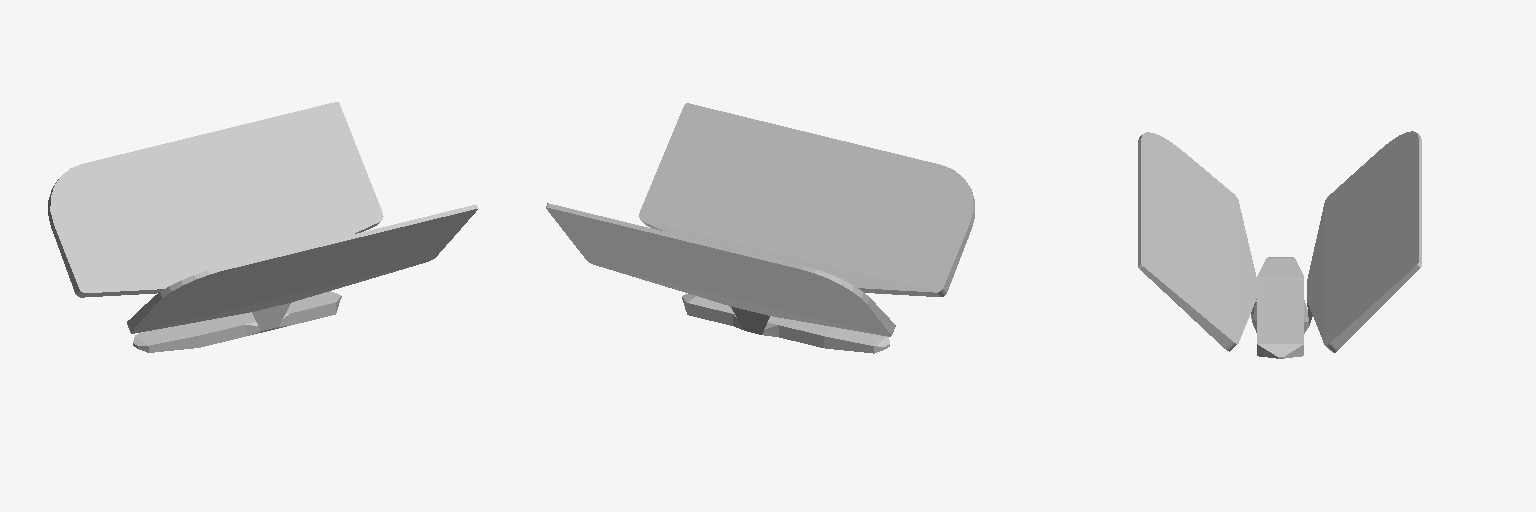
Rendered from butterfly.obj.
3 renders of one model, left to right at view 1: azimuth 30°, elevation 25°; view 2: azimuth 150°, elevation 25°; view 3: azimuth 270°, elevation 25°, orthographic.
Parts seen in each view (by area): view 1: Cube; view 2: Cube; view 3: Cube.
Boxes of the visible parts, x1=… form: Cube: x1=48, y1=102, x2=477, y2=352; Cube: x1=546, y1=103, x2=974, y2=353; Cube: x1=1138, y1=131, x2=1421, y2=358.
Size of the model in its own units: 5.55 by 2.33 by 4.49.